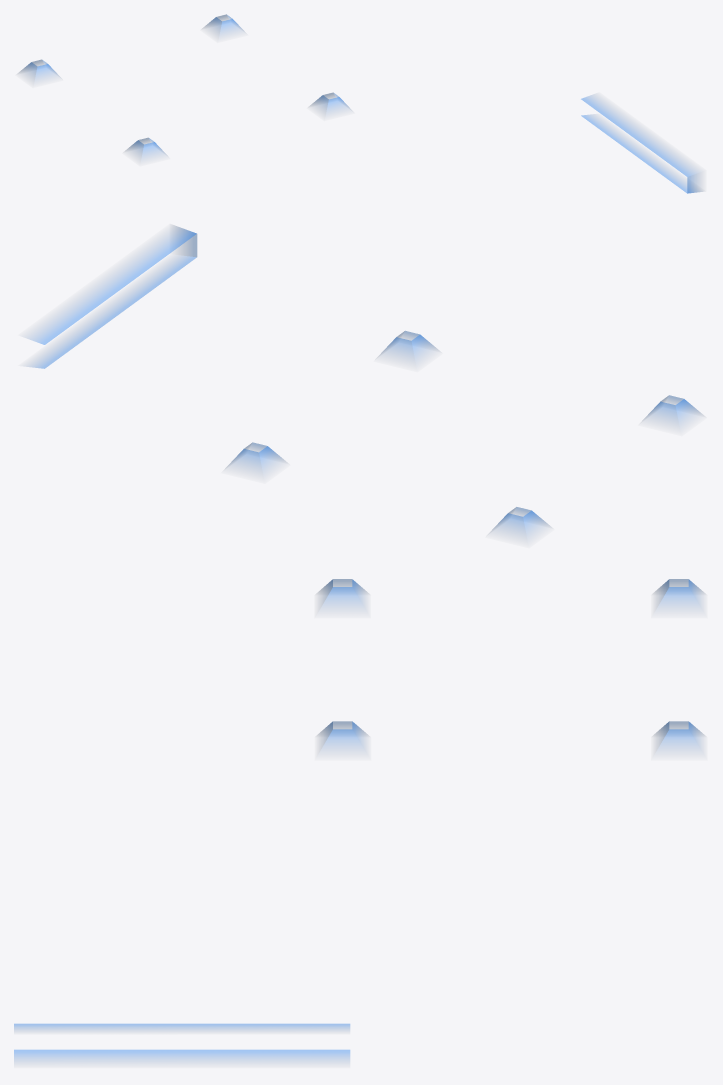
Rendered from PelagicIIExploration_Alpha_62.glb.
3 views of the same model, one above another, from view 1: azimuth 30°, elevation 25°; view 2: azimuth 150°, elevation 25°; view 3: azimuth 270°, elevation 25° (orthographic). The views are drawn at different scales.
Visible parts, largest first — view 1: PelagicIIExploration_Alpha_62; view 2: PelagicIIExploration_Alpha_62; view 3: PelagicIIExploration_Alpha_62.
Part boxes in pixels (box(x1,y1,x2,y2)): PelagicIIExploration_Alpha_62: box(18, 14, 702, 193); PelagicIIExploration_Alpha_62: box(26, 225, 703, 538); PelagicIIExploration_Alpha_62: box(14, 579, 704, 1062).
Bounding box in the file's own units: 281 × 48.5 × 226.
Materials: 1 (1 with a texture image).
